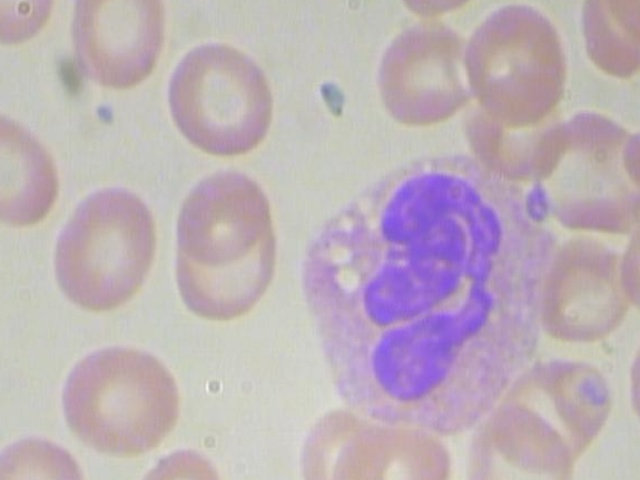RBC: (53, 325, 192, 460), (163, 32, 278, 172), (47, 175, 162, 314), (532, 98, 640, 242), (460, 0, 570, 131), (371, 16, 485, 132), (529, 230, 640, 346), (169, 159, 272, 261), (61, 0, 166, 94), (0, 102, 66, 236), (320, 416, 456, 480), (463, 407, 582, 480), (295, 405, 380, 480), (118, 439, 238, 480), (0, 431, 94, 480)
WBC: (285, 152, 558, 449)
